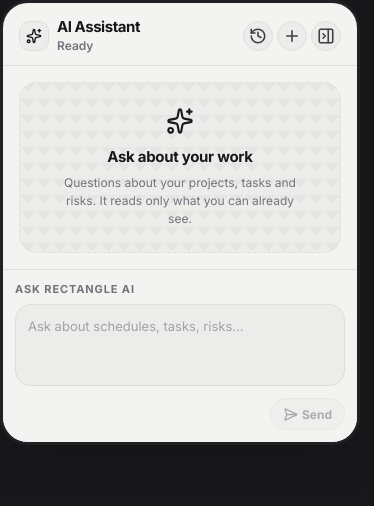
it: AiAssistantPanel › sends one message and a thread id, never the transcript
Expected: the text "Ready" is shown, [57,38,93,52]
Type "first question" into the text box labelled "Ask Rectangle AI". click: (180, 345)
box: [15,304,345,386]
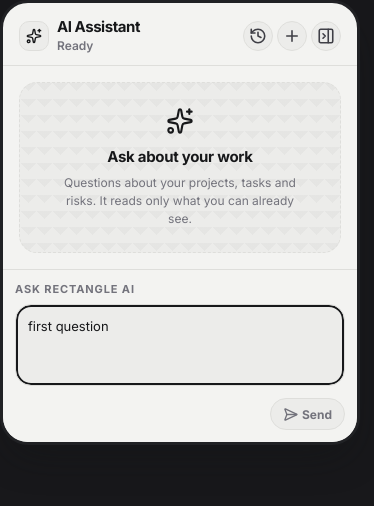
Click the button "Send". click: click(308, 414)
box: [270,398,345,430]
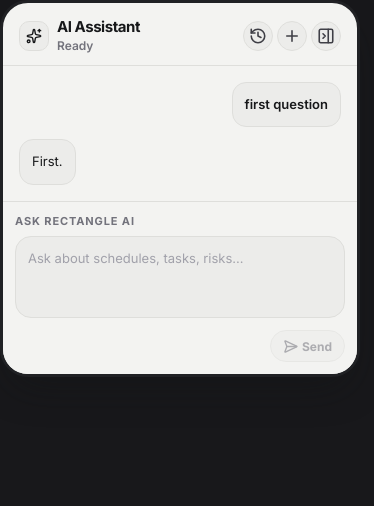
Now the text "First." is shown, box [32,152,63,172]
Type "second question" into the text box labelled "Ask Rectangle AI". click: (180, 277)
box: [15,236,345,318]
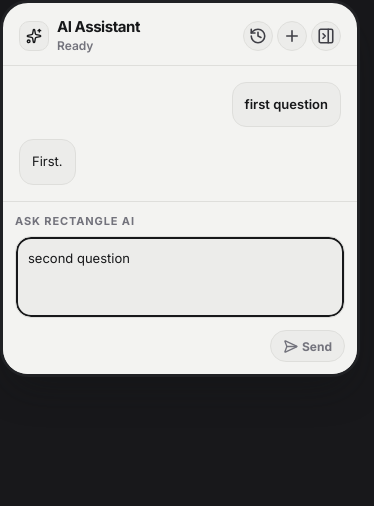
Click the button "Send". click: click(308, 346)
box: [270,330,345,362]
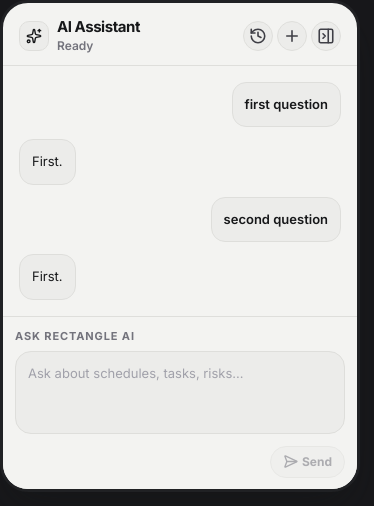
Now the text "second question" is shown, box [224,210,328,229]
